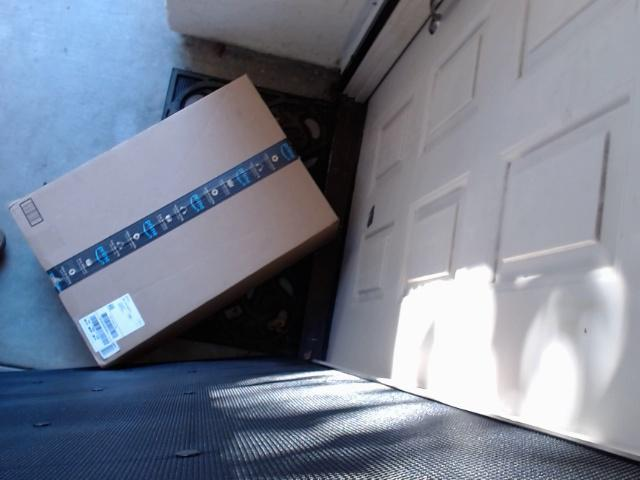box: (2, 73, 347, 370)
